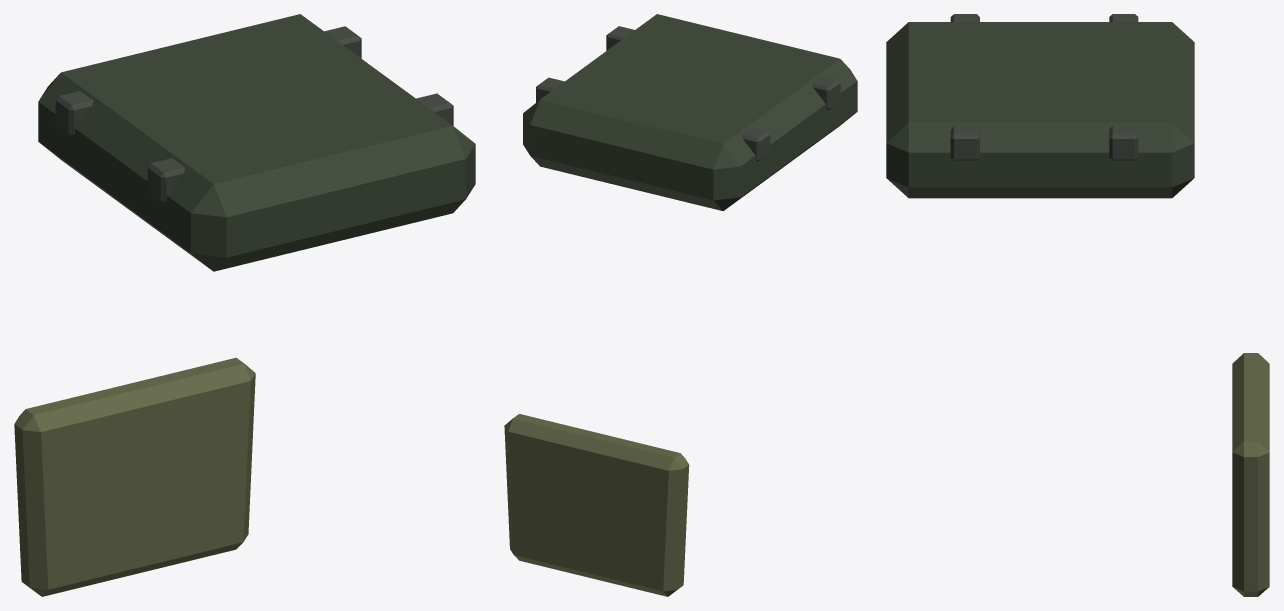
File: arm_reinforced_right.glb
The picture shows the model from 3 angles, left to right: view 1: azimuth 30°, elevation 25°; view 2: azimuth 150°, elevation 25°; view 3: azimuth 270°, elevation 25°; orthographic projection. The views are drawn at different scales.
Visible parts, largest first — view 1: Reinforced_pauldron.001, Forearm_bulwark, Shoulder_rib.002, Shoulder_rib.003; view 2: Reinforced_pauldron.001, Forearm_bulwark, Shoulder_rib.002, Shoulder_rib.003; view 3: Reinforced_pauldron.001, Forearm_bulwark, Shoulder_rib.003, Shoulder_rib.002.
Part boxes in pixels (x1,y1,x2,y2): Reinforced_pauldron.001: (38, 14, 475, 271); Forearm_bulwark: (14, 357, 255, 596); Shoulder_rib.002: (55, 26, 361, 135); Shoulder_rib.003: (147, 93, 453, 203); Reinforced_pauldron.001: (523, 14, 857, 211); Forearm_bulwark: (504, 414, 689, 596); Shoulder_rib.002: (536, 77, 770, 161); Shoulder_rib.003: (606, 26, 840, 109); Reinforced_pauldron.001: (886, 22, 1194, 198); Forearm_bulwark: (1232, 353, 1269, 596); Shoulder_rib.003: (950, 14, 979, 160); Shoulder_rib.002: (1109, 14, 1138, 160).
Size of the model in its own units: 0.35 by 0.64 by 0.46.
